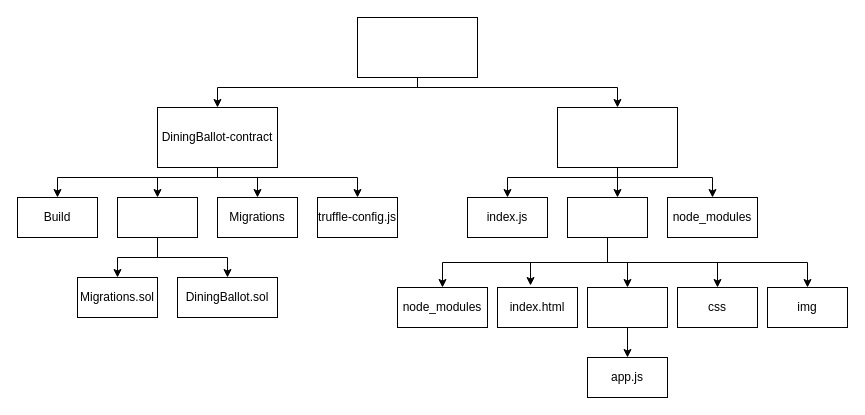
Image size: 865x415. Some labels were removed from this diagram. Each missing label, with the centre of its shape:
Contracts: (157,217)
DiningBallot-app: (617,137)
DiningBallot-Dapp: (417,47)
js: (627,307)
src: (607,217)
